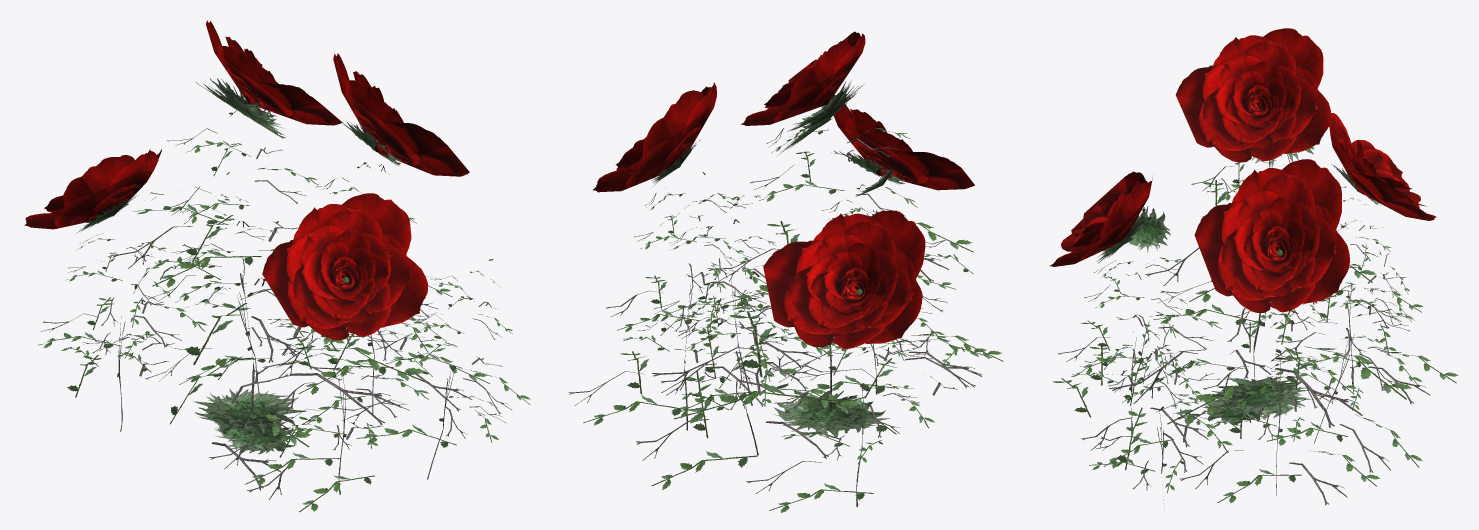
File: VEG0310022.fbx
The picture shows the model from 3 angles, left to right: view 1: azimuth 30°, elevation 25°; view 2: azimuth 150°, elevation 25°; view 3: azimuth 270°, elevation 25°; orthographic projection. The views are drawn at different scales.
Parts seen in each view (by area): view 1: smVEG0310022; view 2: smVEG0310022; view 3: smVEG0310022.
Boxes of the visible parts, bbox=[...] form: smVEG0310022: bbox=[24, 20, 530, 512]; smVEG0310022: bbox=[569, 31, 1003, 513]; smVEG0310022: bbox=[1049, 28, 1458, 507].
Size of the model in its own units: 28.23 by 30.55 by 27.65.
Materials: 1 (1 with a texture image).
